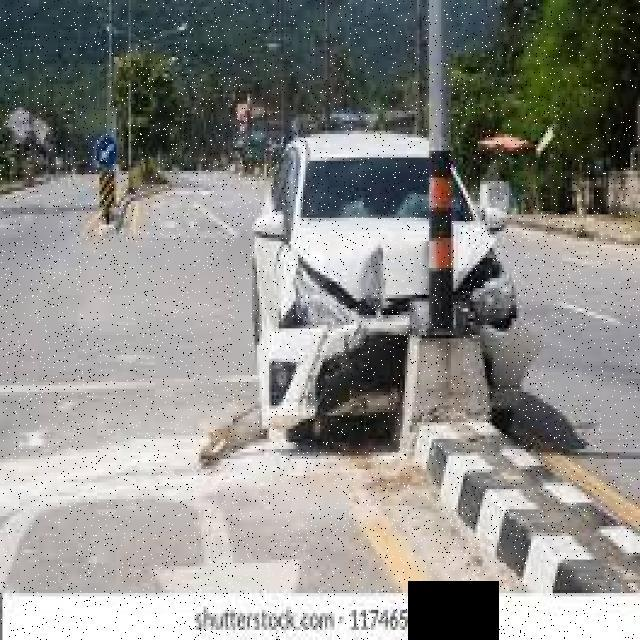moderate: (245, 127, 536, 429)
